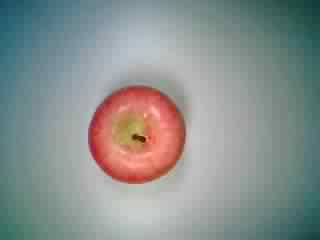apple: (84, 80, 188, 184)
